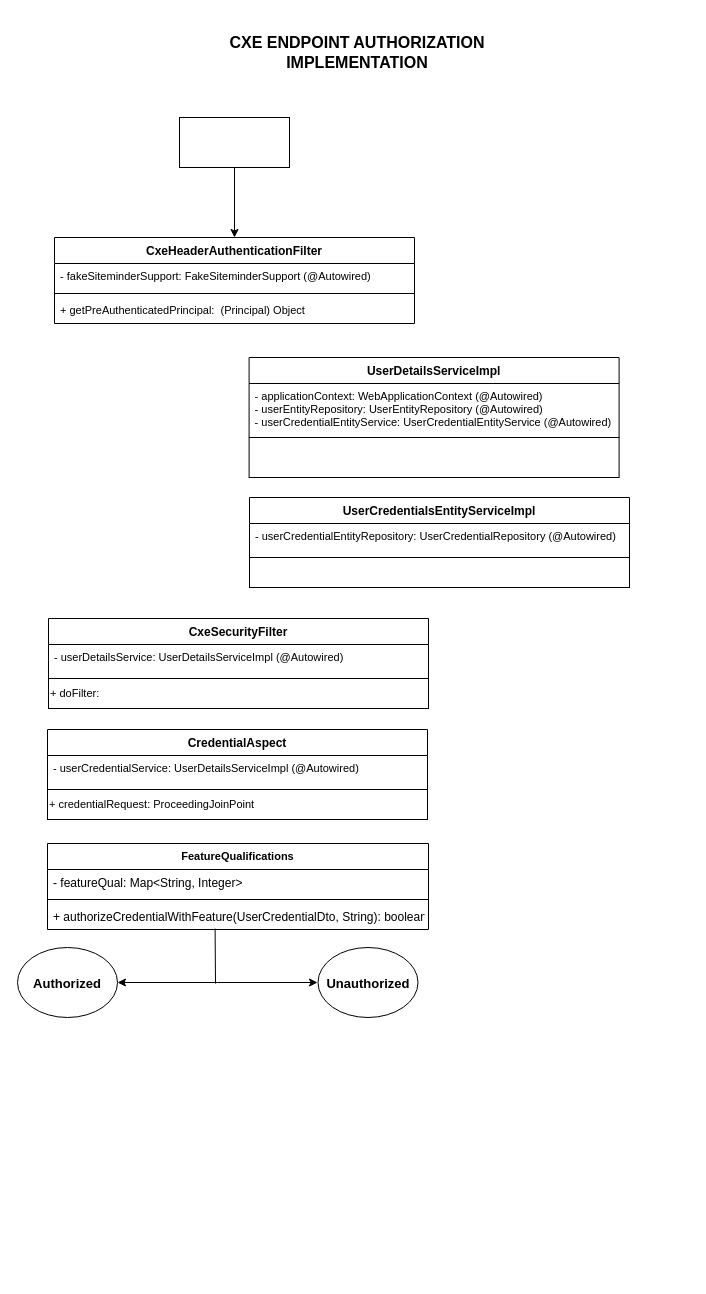
Image size: 706x1294. Some labels were removed from this diagram. Each missing label, with the centre of its shape:
+ loadUserByUsername: UserDetails: point (433, 457)
HttpRequest: point (234, 142)
